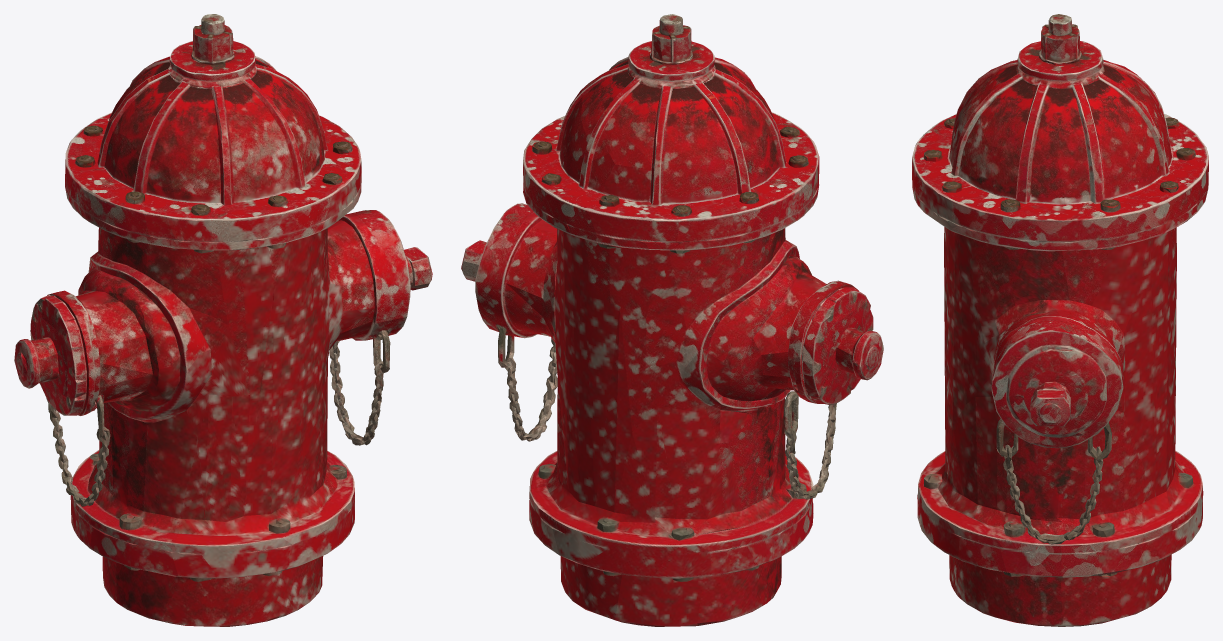
3 views of the same model, side by side, from view 1: azimuth 30°, elevation 25°; view 2: azimuth 150°, elevation 25°; view 3: azimuth 270°, elevation 25° (orthographic).
Bounding box in the file's own units: 1.44 × 1.9 × 0.9085.
1 material, 1 textured.
